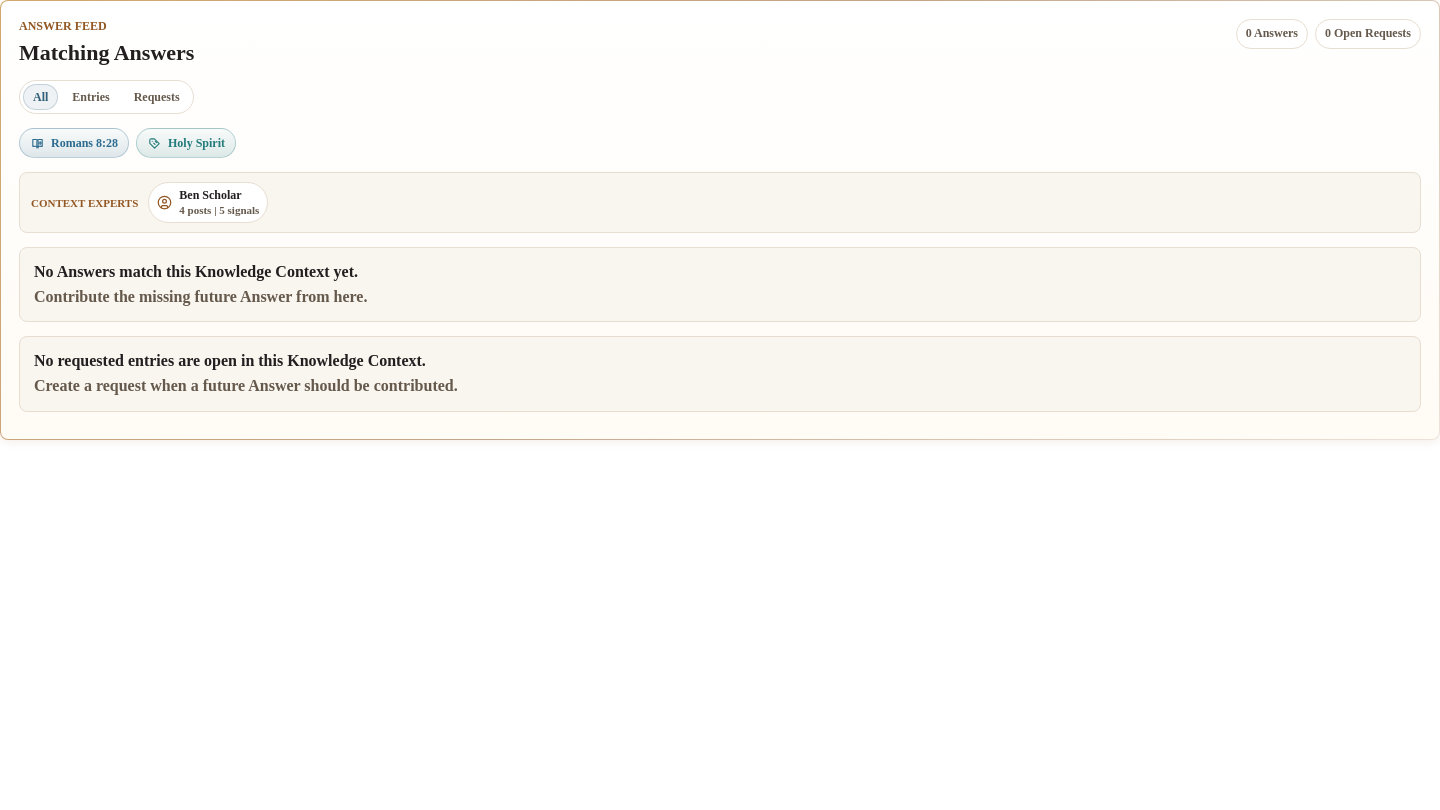
Test case: AnswerFeed › labels inherited Context Expert post counts as broader context counts
Click the button "Ben Scholar 4 posts | 5 signals".
click(219, 203)  # box [179,189,259,216]
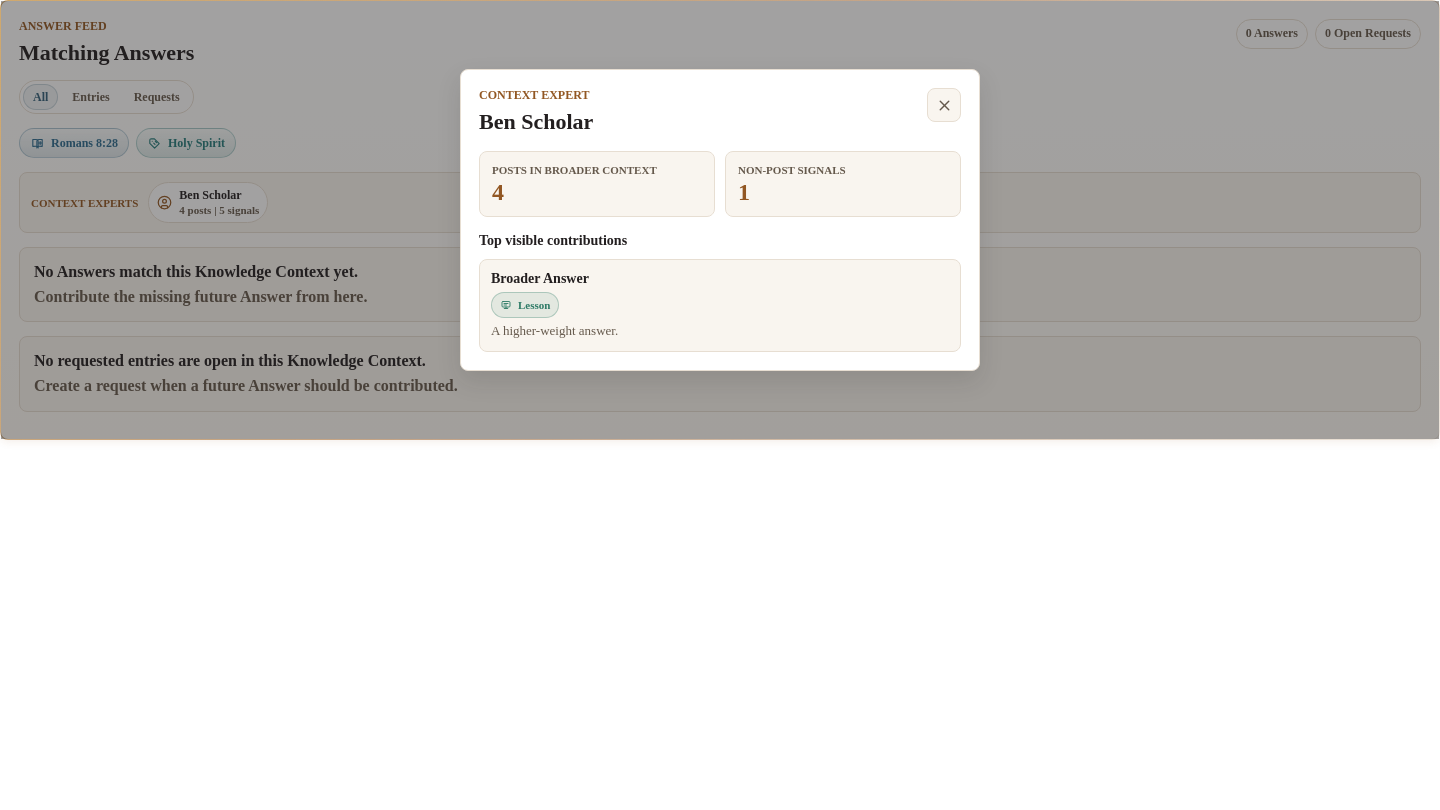
Expected: the dialog shows "Posts in broader context", [492,164,657,176]
